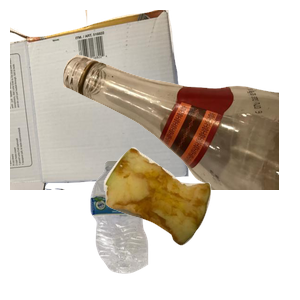cardboard: (10, 10, 191, 190)
glass: (60, 10, 300, 190)
plastic: (88, 158, 229, 300)
trash: (101, 145, 300, 300)
